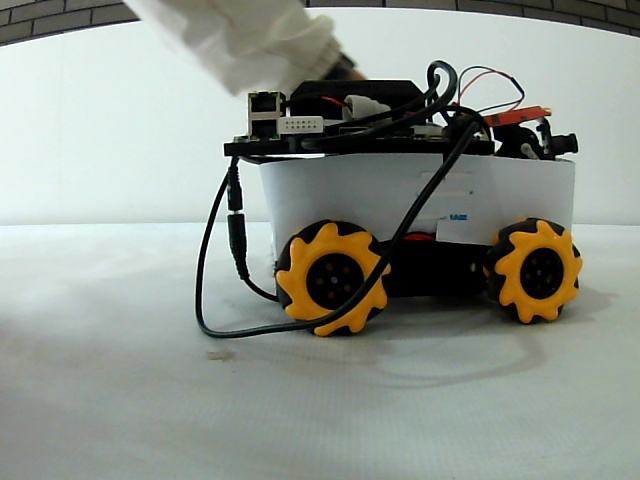car: (226, 76, 586, 330)
paper: (260, 161, 574, 223)
